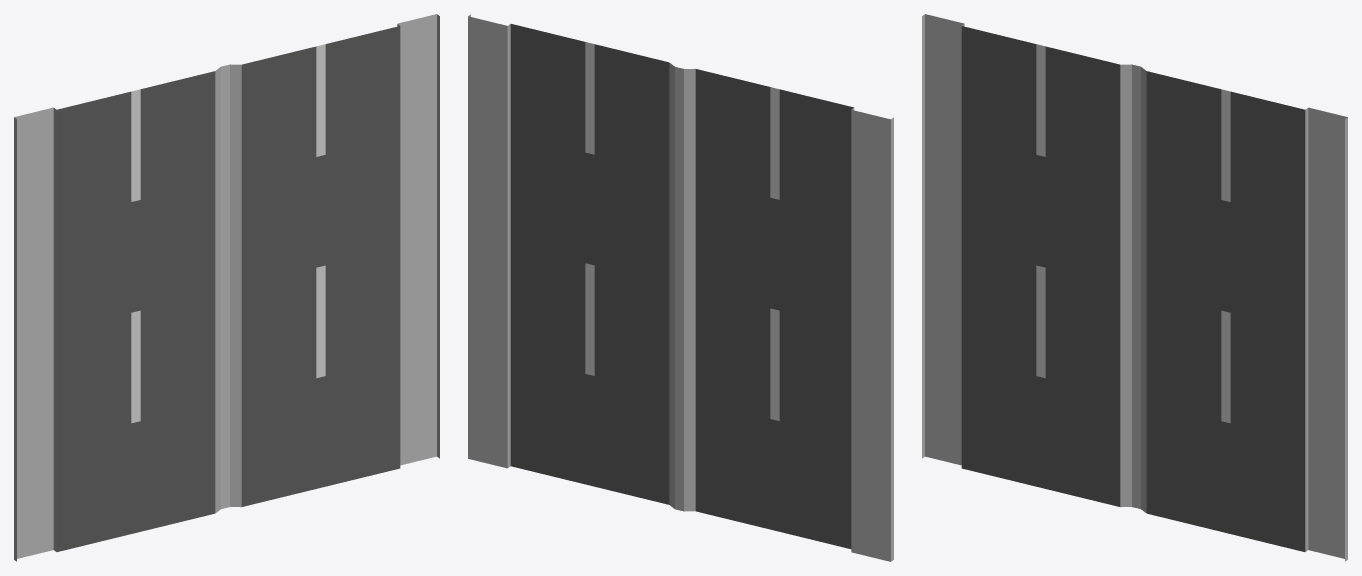
Rendered from RoadDoubleBase.fbx.
3 renders of one model, left to right at view 1: azimuth 30°, elevation 25°; view 2: azimuth 150°, elevation 25°; view 3: azimuth 330°, elevation 25°, orthographic.
Parts seen in each view (by area): view 1: r_double_base; view 2: r_double_base; view 3: r_double_base.
Boxes of the visible parts, left/top/right/bottom form: r_double_base: left=14, top=14, right=439, bottom=561; r_double_base: left=468, top=14, right=893, bottom=561; r_double_base: left=922, top=14, right=1347, bottom=561.
Size of the model in its own units: 800 by 800 by 10.
